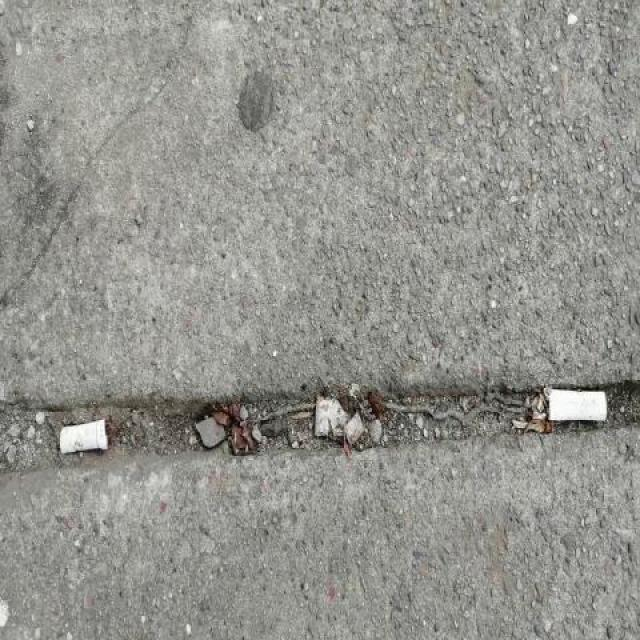non-organic waste: (544, 385, 612, 427), (56, 415, 115, 458)
